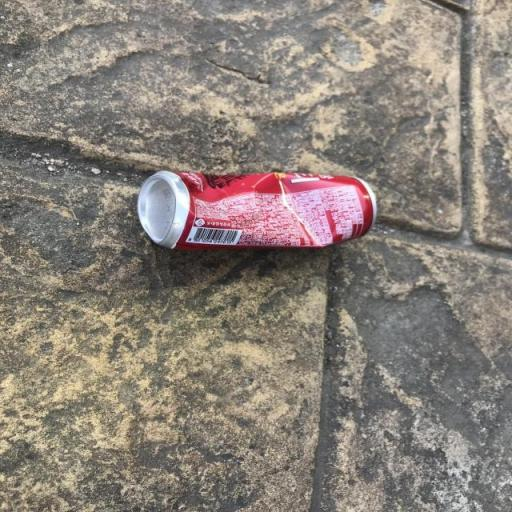metal: (114, 152, 395, 270)
